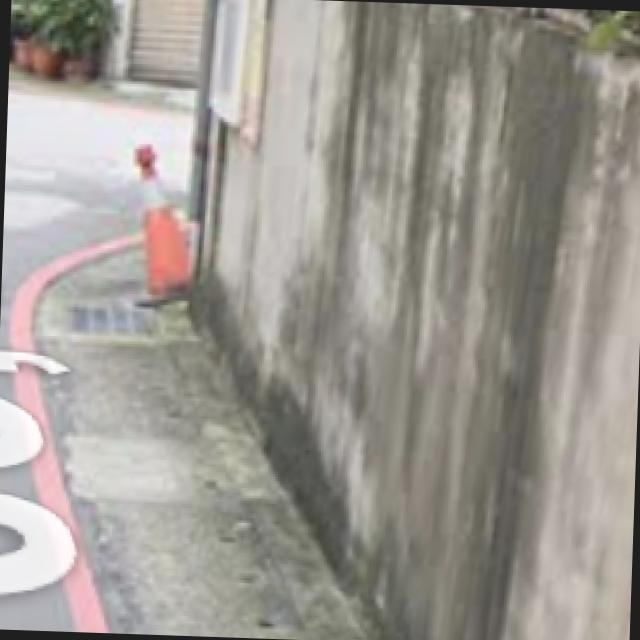cone: (104, 129, 210, 304)
